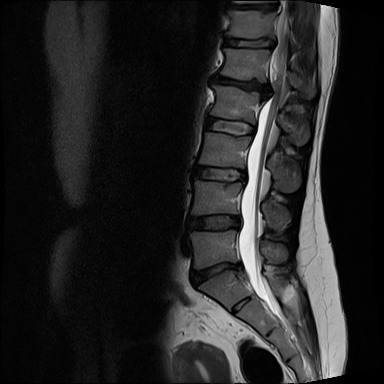Degenerative Disc Disease (DDD): (182, 256, 248, 293), (221, 0, 285, 15)
Lumbar Disc Bulge (LDB): (203, 70, 279, 102), (187, 257, 250, 290), (182, 207, 246, 237)
Normal IVD: (195, 114, 260, 141), (186, 161, 251, 186)
Spinal Stenosis (SS): (251, 73, 284, 103), (233, 253, 259, 282), (231, 210, 249, 235), (264, 33, 283, 53)
Thoracic Disc Bulge (TDB): (217, 33, 280, 53)
